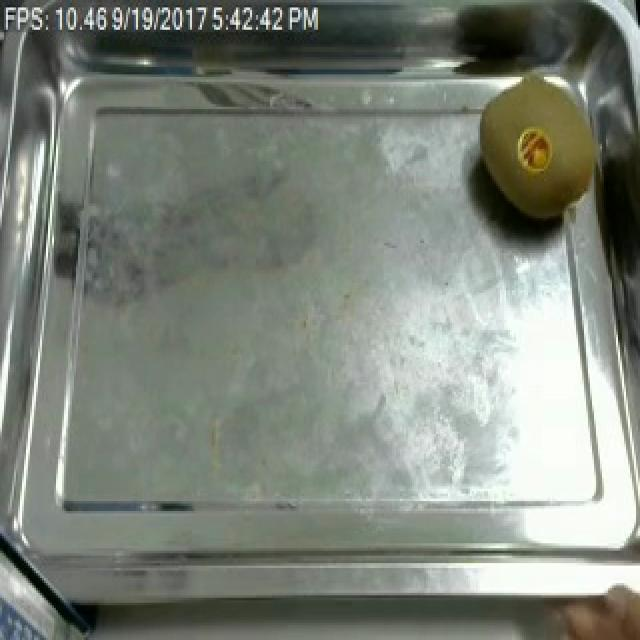Fruit: (468, 62, 614, 233)
